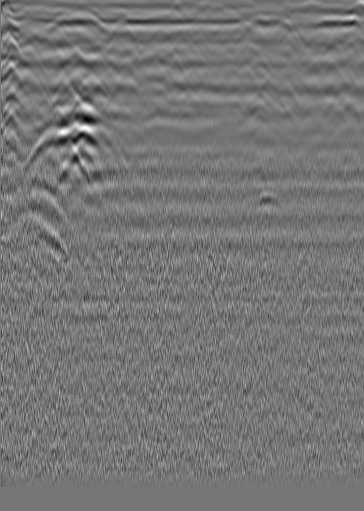가스: (252, 182, 284, 217)
상수: (4, 20, 24, 40)
오수: (316, 18, 336, 38)
우수: (149, 26, 169, 46)
